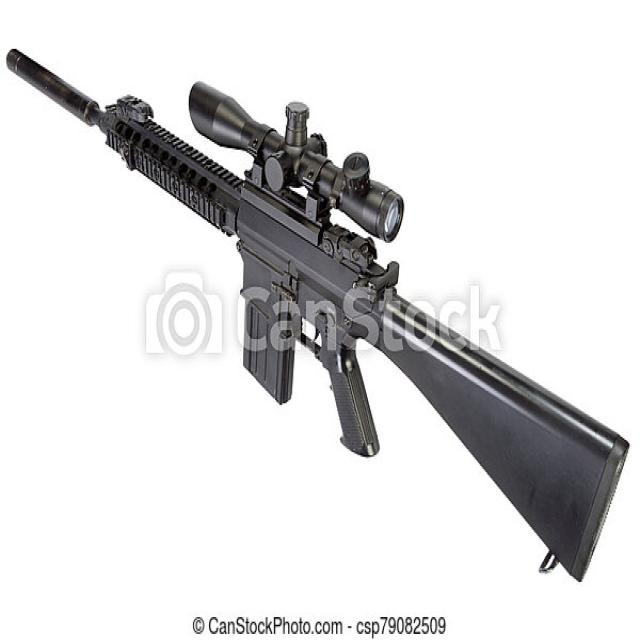Rifle: (4, 49, 631, 585)
